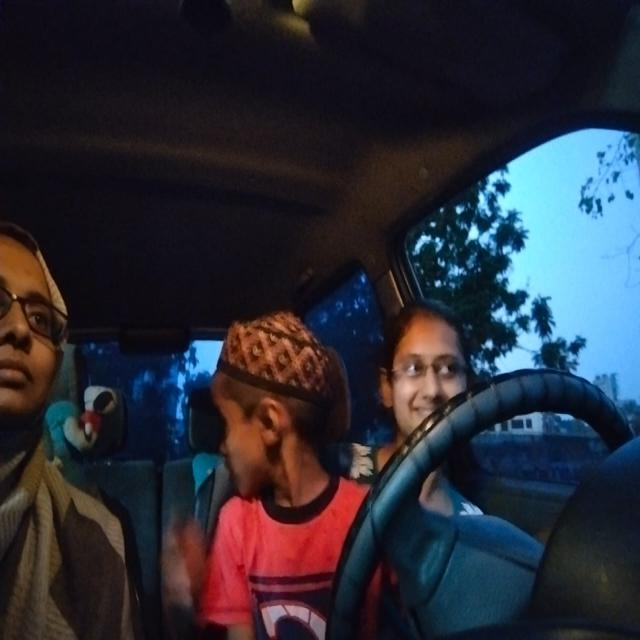child: (194, 287, 357, 507)
person: (0, 202, 89, 461), (379, 266, 480, 466)
